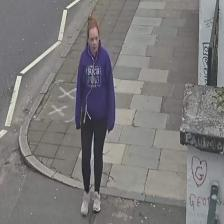person: (74, 15, 116, 214)
